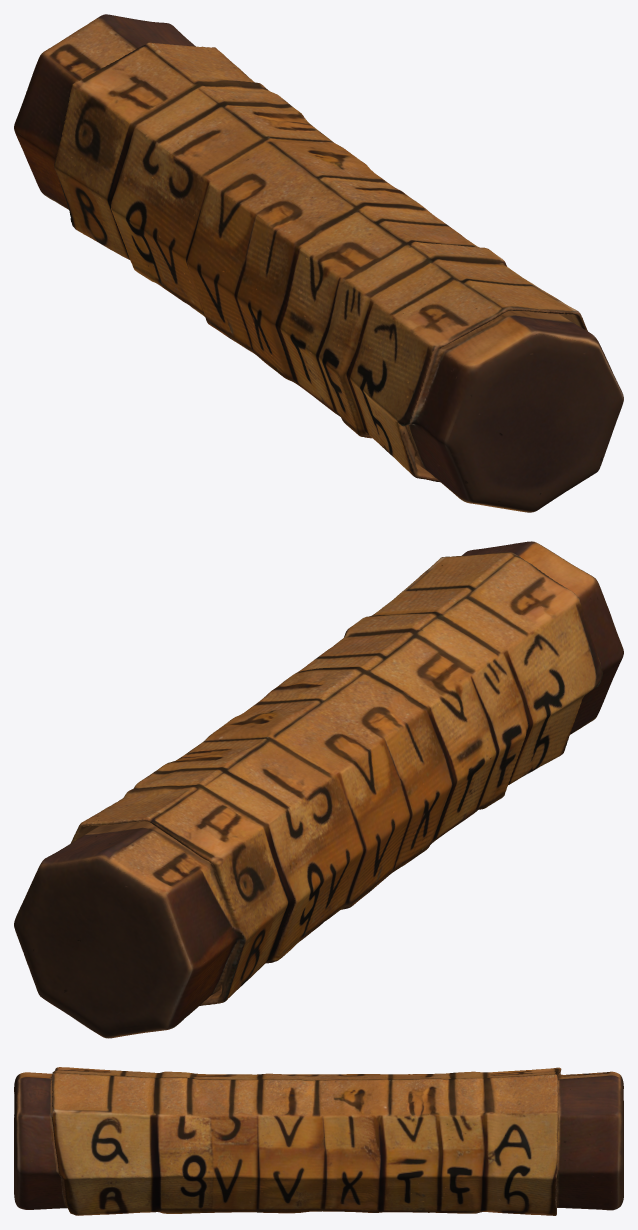
Rendered from Meshy_AI_Wooden_alphabet_rings_0211095710_texture.glb.
3 renders of one model, top to bottom at view 1: azimuth 30°, elevation 25°; view 2: azimuth 150°, elevation 25°; view 3: azimuth 270°, elevation 25°, orthographic. The views are drawn at different scales.
Size of the model in its own units: 0.5307 by 0.4928 by 2.
Materials: 1 (1 with a texture image).
